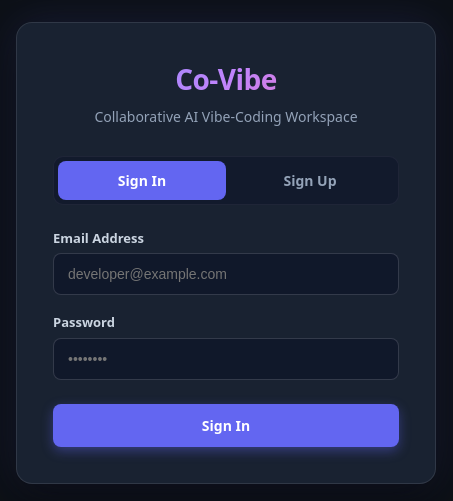
Test: LoginPage & AuthProvider Component › switches between Sign In and Sign Up modes when tab buttons are clicked
Click the tab "Sign Up" at [310, 180], box [226,161,394,200]
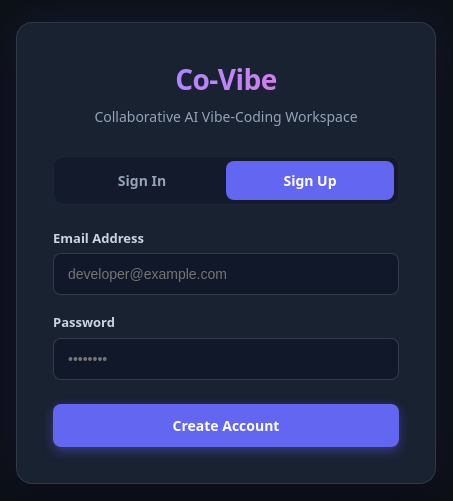
Expected: the button "Create Account" is shown, [53,404,399,447]
Click the tab "Sign In" at [142, 180], box [58,161,226,200]
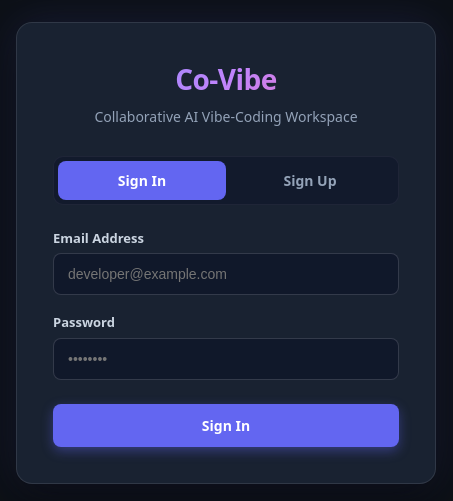
Expected: the button "Sign In" is shown, [53,404,399,447]
